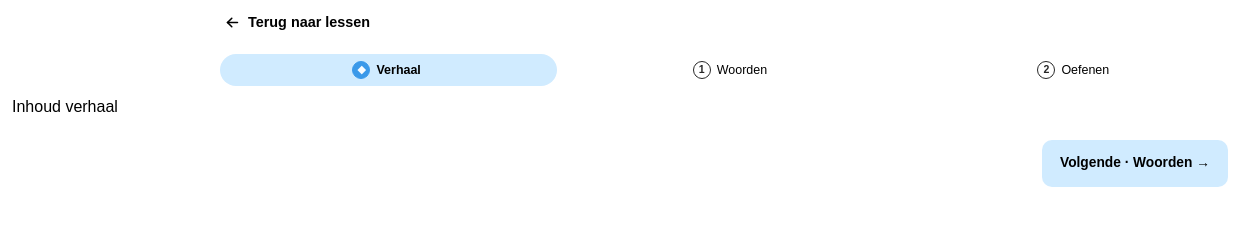
Test: ChapterExperience › navigates forward via the next button and marks the step current
Click the button "Volgende · Woorden →". click: (1135, 164)
box: [1042,140,1228,187]
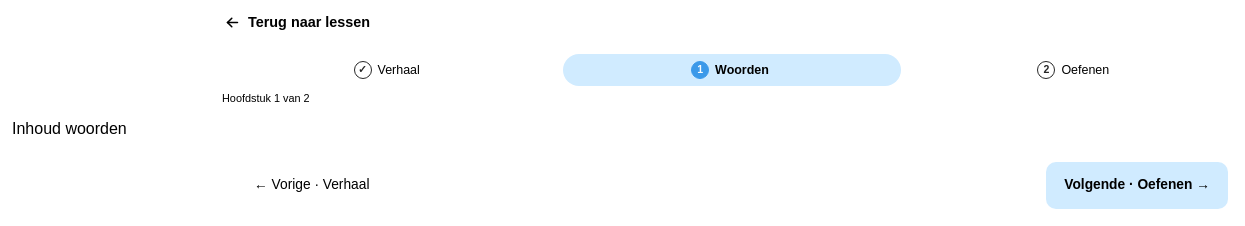
Now the text "Inhoud woorden" is shown, box [12,120,127,137]
